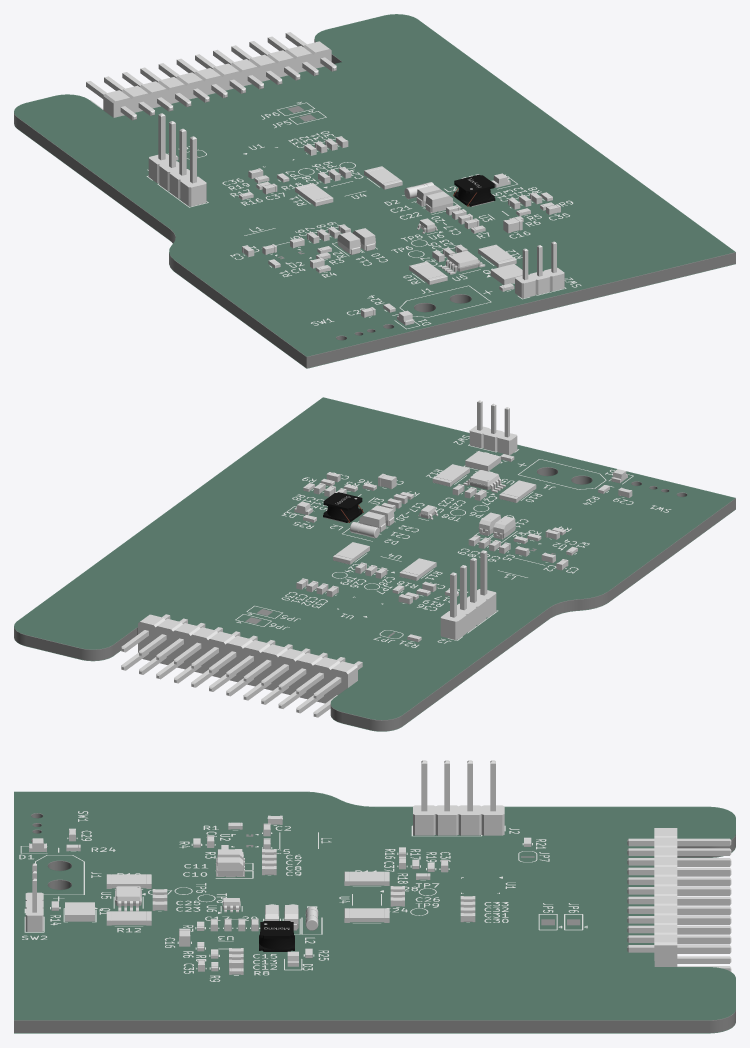
The model's file is SupplyBoard.glb.
3 renders of one model, top to bottom at view 1: azimuth 30°, elevation 25°; view 2: azimuth 150°, elevation 25°; view 3: azimuth 270°, elevation 25°, orthographic. The views are drawn at different scales.
Parts seen in each view (by area): view 1: =>[0:1:1:19], =>[0:1:1:18], J3, =>[0:1:1:17], J2, SW2, L_Wurth_WE-LQSH-4020, U5; view 2: =>[0:1:1:18], =>[0:1:1:19], J3, =>[0:1:1:17], J2, SW2, L_Wurth_WE-LQSH-4020, U5; view 3: =>[0:1:1:19], =>[0:1:1:18], J3, =>[0:1:1:17], J2, L_Wurth_WE-LQSH-4020, SW2, R13, R12, R11, R10, U5 (+2 smaller).
Part boxes in pixels (bbox=[...]): =>[0:1:1:19]: bbox=[14, 15, 735, 368]; =>[0:1:1:18]: bbox=[14, 14, 735, 368]; J3: bbox=[86, 32, 336, 120]; =>[0:1:1:17]: bbox=[146, 101, 581, 329]; J2: bbox=[148, 113, 206, 206]; SW2: bbox=[515, 241, 564, 298]; L_Wurth_WE-LQSH-4020: bbox=[453, 174, 495, 206]; U5: bbox=[441, 251, 485, 274]; =>[0:1:1:18]: bbox=[14, 397, 735, 731]; =>[0:1:1:19]: bbox=[14, 398, 735, 731]; J3: bbox=[121, 614, 362, 717]; =>[0:1:1:17]: bbox=[235, 435, 671, 647]; J2: bbox=[440, 550, 496, 639]; SW2: bbox=[469, 400, 517, 454]; L_Wurth_WE-LQSH-4020: bbox=[323, 492, 363, 522]; U5: bbox=[463, 470, 505, 492]; =>[0:1:1:19]: bbox=[14, 792, 735, 1032]; =>[0:1:1:18]: bbox=[14, 791, 735, 1033]; J3: bbox=[627, 828, 731, 971]; =>[0:1:1:17]: bbox=[19, 811, 587, 981]; J2: bbox=[413, 760, 504, 835]; L_Wurth_WE-LQSH-4020: bbox=[259, 921, 294, 951]; SW2: bbox=[25, 863, 43, 931]; R13: bbox=[344, 908, 389, 922]; R12: bbox=[106, 911, 151, 925]; R11: bbox=[344, 871, 389, 885]; R10: bbox=[106, 874, 151, 888]; U5: bbox=[115, 886, 141, 911].
Bounding box in the file's own units: 0.06 × 0.0115 × 0.08.
